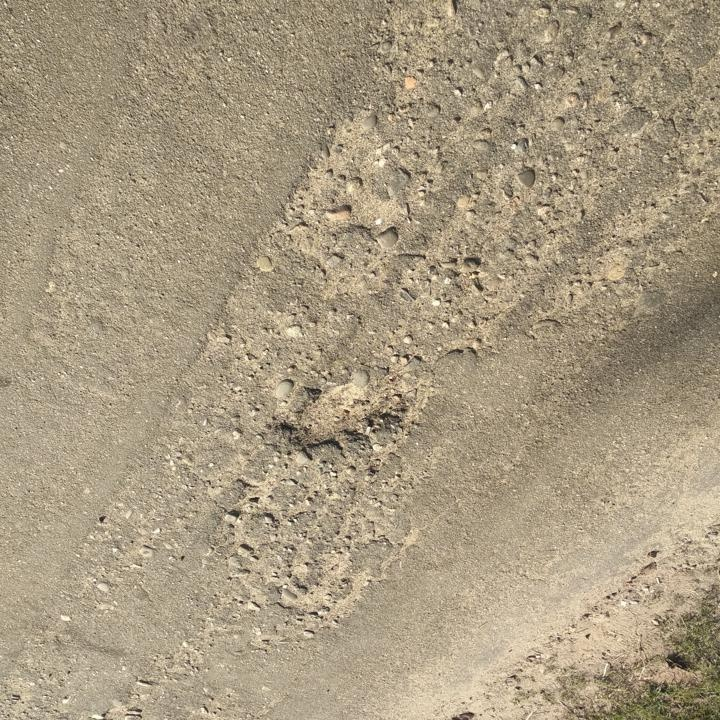pothole: (275, 378, 400, 455)
